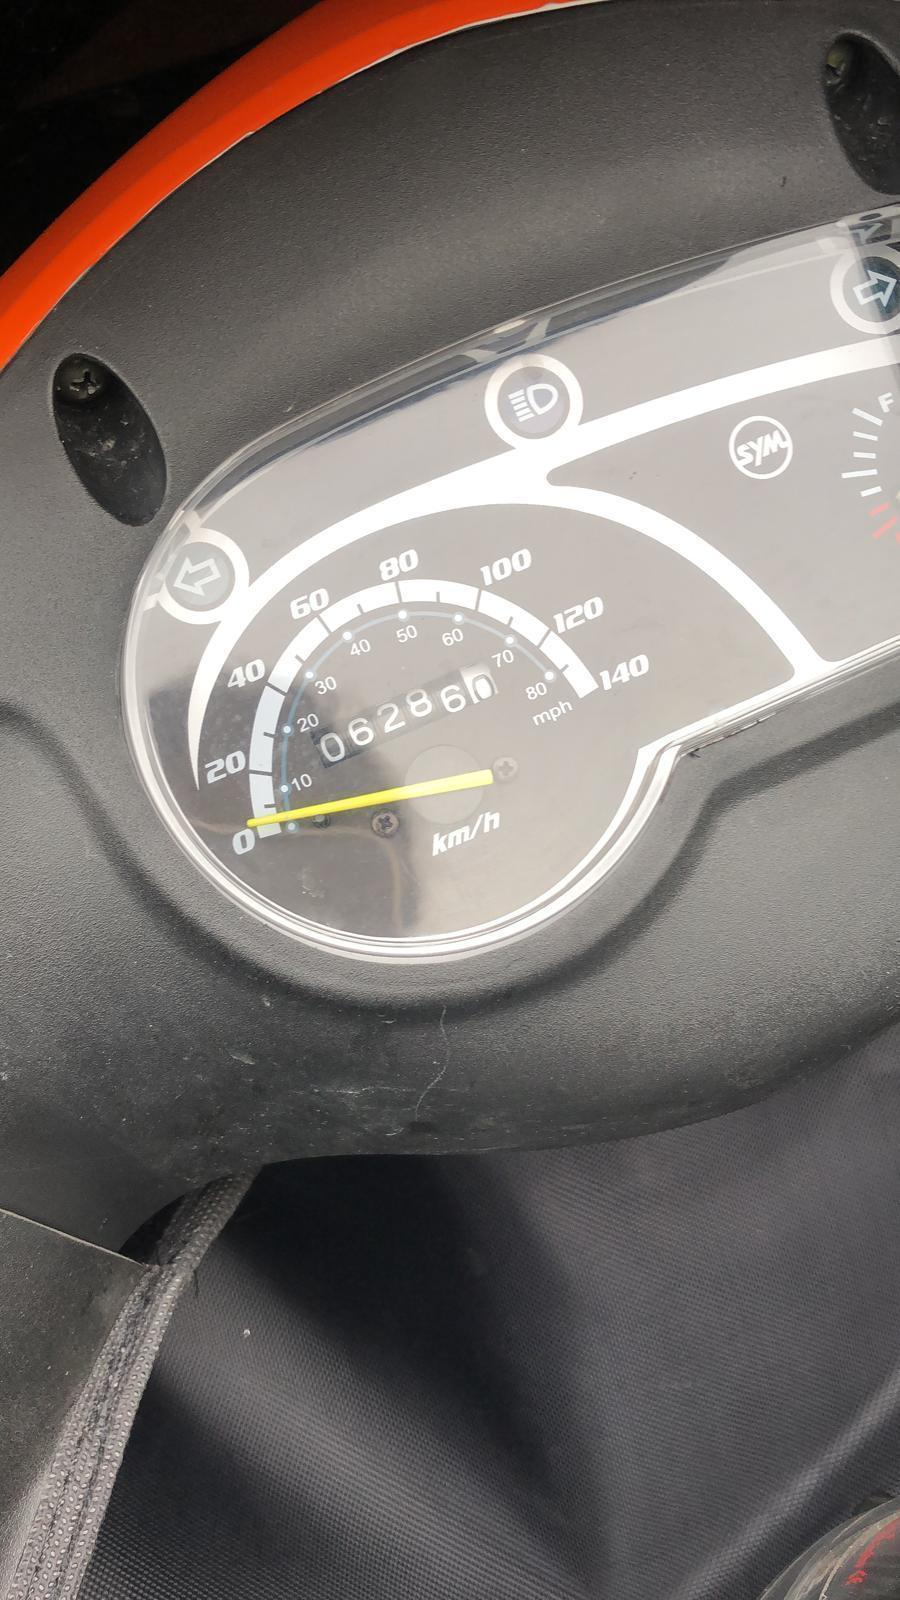0: (319, 731, 346, 763), (471, 673, 495, 703), (323, 675, 337, 691), (305, 712, 319, 727)
2: (375, 702, 405, 733)
3: (314, 680, 326, 695)
6: (438, 684, 466, 713), (346, 716, 373, 746)
8: (405, 688, 432, 716)
odometer: (307, 657, 500, 770)
